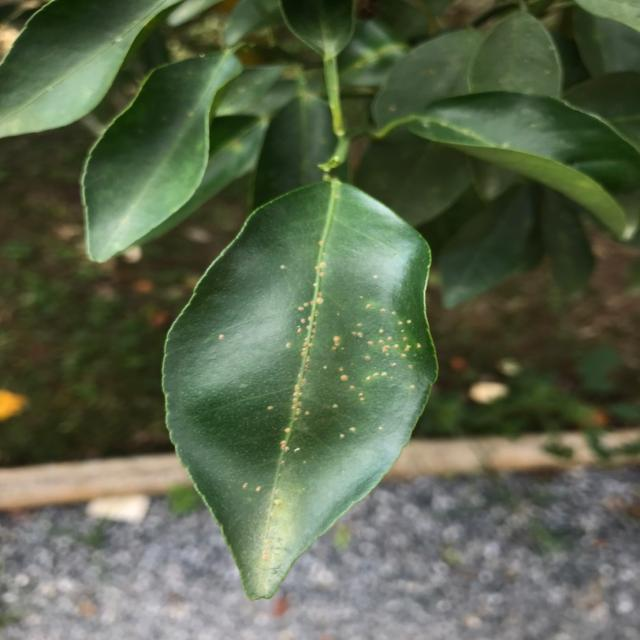canker: (208, 232, 438, 544)
